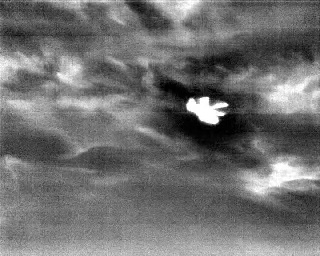HELICOPTER: (184, 91, 232, 129)
